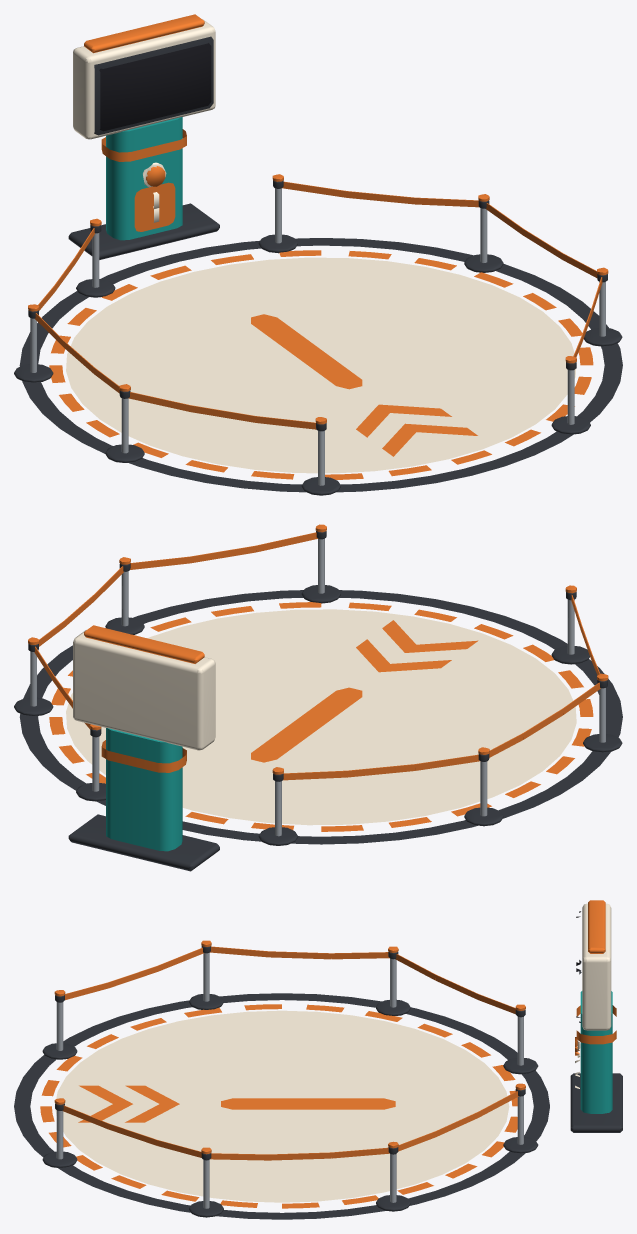
File: PuertaSala1.fbx
3 views of the same model, one above another, from view 1: azimuth 30°, elevation 25°; view 2: azimuth 150°, elevation 25°; view 3: azimuth 270°, elevation 25° (orthographic). The views are drawn at different scales.
Visible parts, largest first — view 1: PuertaSala1; view 2: PuertaSala1; view 3: PuertaSala1.
Boxes of the visible parts, x1,y1,x2,y2 form: PuertaSala1: (14, 14, 622, 495); PuertaSala1: (14, 524, 622, 871); PuertaSala1: (14, 900, 622, 1219).
Bounding box in the file's own units: 9.2 × 3.47 × 10.45.
Materials: 1 (1 with a texture image).
